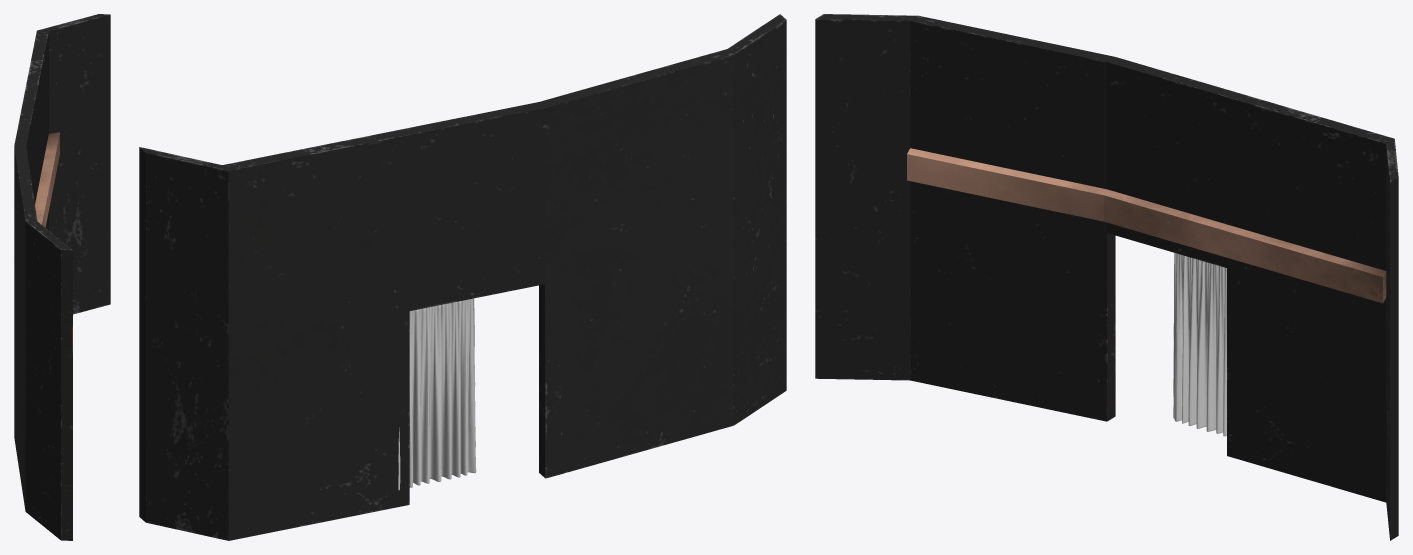
File: entradas.fbx
The picture shows the model from 3 angles, left to right: view 1: azimuth 30°, elevation 25°; view 2: azimuth 150°, elevation 25°; view 3: azimuth 270°, elevation 25°; orthographic projection. The views are drawn at different scales.
Visible parts, largest first — view 1: Cube.009; view 2: Cube.009, Plane.248; view 3: Cube.009, Plane.248.
Part boxes in pixels (x1,y1,x2,y2): Cube.009: [14, 14, 110, 540]; Cube.009: [139, 14, 786, 540]; Plane.248: [398, 298, 476, 490]; Cube.009: [815, 14, 1398, 540]; Plane.248: [1173, 253, 1226, 436].
Size of the model in its own units: 4984 by 4968 by 7303.
Materials: 2 (1 with a texture image).
